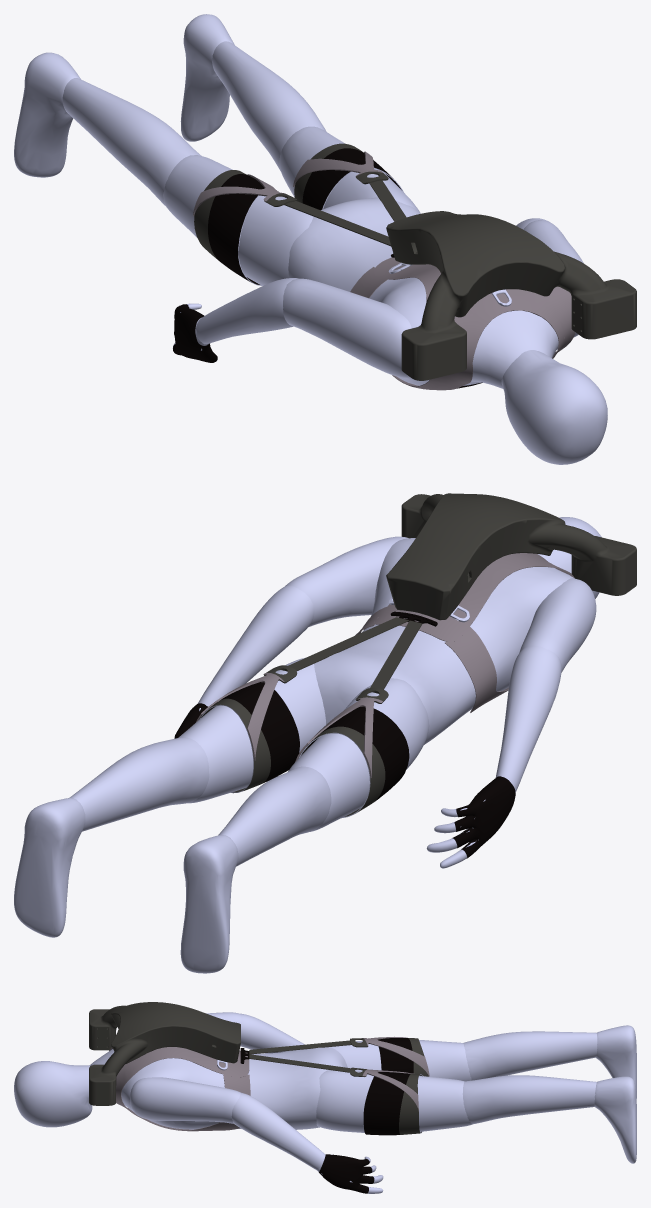
File: exoskeleton.glb
The picture shows the model from 3 angles, top to bottom: view 1: azimuth 30°, elevation 25°; view 2: azimuth 150°, elevation 25°; view 3: azimuth 270°, elevation 25°; orthographic projection. The views are drawn at different scales.
Parts seen in each view (by area): view 1: M4 MOUNTING FOR RASBERRY-6; view 2: M4 MOUNTING FOR RASBERRY-6; view 3: M4 MOUNTING FOR RASBERRY-6.
Boxes of the visible parts, x1,y1,x2,y2 form: M4 MOUNTING FOR RASBERRY-6: (14,14,636,464); M4 MOUNTING FOR RASBERRY-6: (14,493,636,973); M4 MOUNTING FOR RASBERRY-6: (14,1002,636,1193).
Bounding box in the file's own units: 0.7184 × 0.4392 × 1.8.
Materials: 1 (1 with a texture image).
